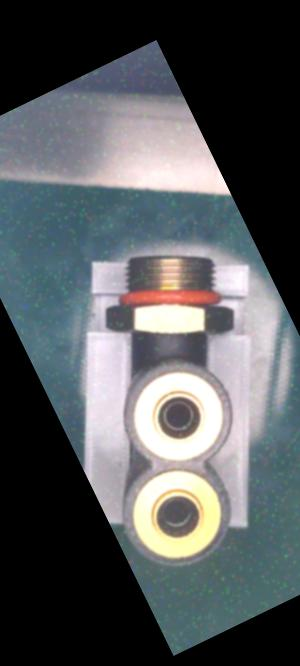joint line: (163, 333, 181, 356)
